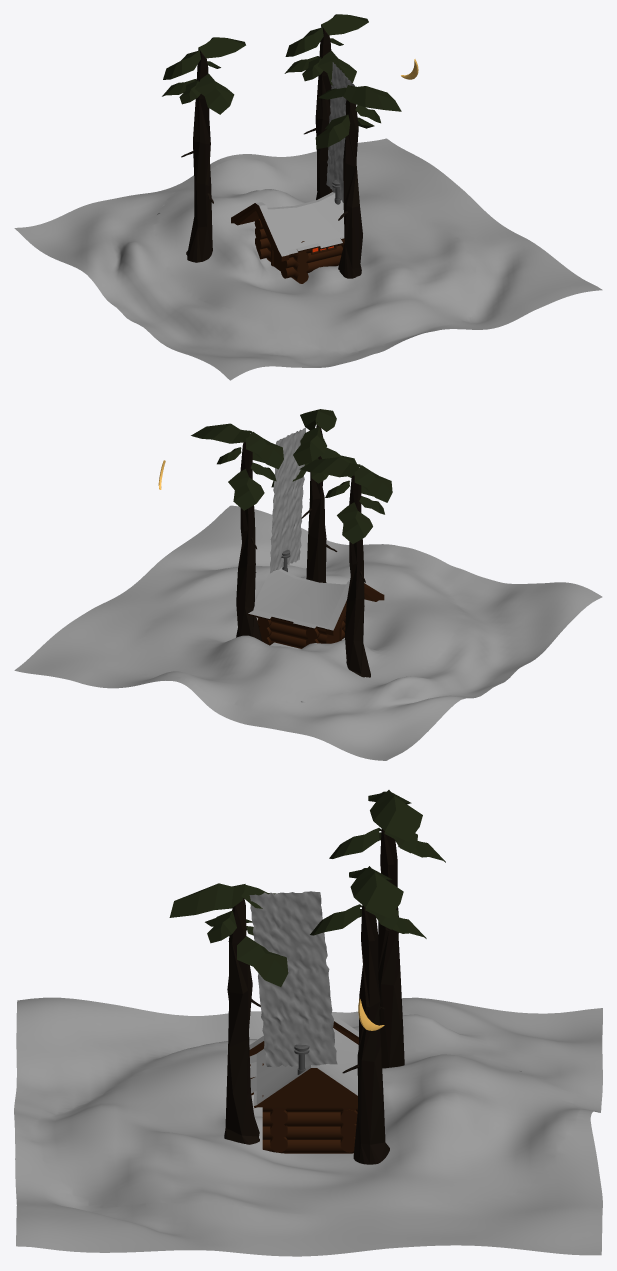
The model's file is cabin.fbx.
The picture shows the model from 3 angles, top to bottom: view 1: azimuth 30°, elevation 25°; view 2: azimuth 150°, elevation 25°; view 3: azimuth 270°, elevation 25°; orthographic projection. The views are drawn at different scales.
Visible parts, largest first — view 1: Snow, Roof, Tree008, Tree005, Tree, smoke, Leaf009, Cylinder001, Leaf015, Leaf011, Leaf, Leaf016 (+3 smaller); view 2: Snow, Roof, smoke, Tree008, Tree, Tree005, Leaf003, Leaf012, Leaf010, Leaf017, Leaf, Leaf016 (+3 smaller); view 3: Snow, smoke, Roof, Tree, Tree005, Tree008, Leaf016, Leaf, Leaf009, Leaf007, Cylinder014, Cylinder016 (+4 smaller).
Boxes of the visible parts, left/top/right/bottom form: Snow: left=14, top=138, right=602, bottom=380; Roof: left=231, top=192, right=363, bottom=261; Tree008: left=186, top=51, right=212, bottom=262; Tree005: left=338, top=86, right=362, bottom=278; Tree: left=315, top=28, right=332, bottom=199; smoke: left=326, top=62, right=354, bottom=202; Leaf009: left=343, top=85, right=401, bottom=111; Cylinder001: left=280, top=239, right=344, bottom=278; Leaf015: left=195, top=73, right=234, bottom=114; Leaf011: left=315, top=114, right=350, bottom=149; Leaf: left=321, top=14, right=368, bottom=35; Leaf016: left=198, top=37, right=245, bottom=58; Snow: left=14, top=505, right=602, bottom=760; Roof: left=248, top=568, right=384, bottom=635; smoke: left=270, top=427, right=306, bottom=573; Tree008: left=345, top=475, right=370, bottom=677; Tree: left=236, top=442, right=262, bottom=641; Tree005: left=306, top=422, right=326, bottom=582; Leaf003: left=228, top=469, right=264, bottom=510; Leaf012: left=337, top=502, right=372, bottom=543; Leaf010: left=293, top=426, right=326, bottom=465; Leaf017: left=354, top=465, right=392, bottom=502; Leaf: left=191, top=423, right=251, bottom=443; Leaf016: left=299, top=457, right=360, bottom=477; Snow: left=14, top=997, right=602, bottom=1256; smoke: left=249, top=891, right=337, bottom=1067; Roof: left=249, top=1014, right=358, bottom=1107; Tree: left=353, top=905, right=389, bottom=1164; Tree005: left=224, top=885, right=259, bottom=1144; Tree008: left=378, top=829, right=404, bottom=1068; Leaf016: left=370, top=790, right=422, bottom=841; Leaf: left=350, top=866, right=403, bottom=918; Leaf009: left=169, top=883, right=245, bottom=917; Leaf007: left=237, top=936, right=288, bottom=986; Cylinder014: left=262, top=1112, right=356, bottom=1126; Cylinder016: left=262, top=1140, right=353, bottom=1153.
Bounding box in the file's own units: 895 × 532 × 898.
